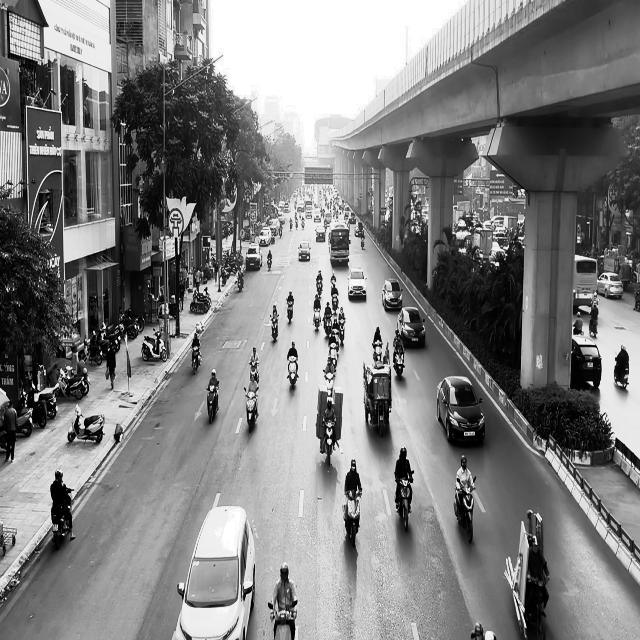car: (175, 505, 256, 639), (436, 375, 485, 445), (571, 334, 602, 389), (397, 306, 426, 348), (597, 272, 623, 300), (347, 267, 367, 300), (382, 278, 402, 309), (298, 240, 310, 261)
motorbike: (453, 474, 476, 542), (51, 487, 74, 549), (394, 470, 414, 531), (268, 600, 298, 640), (343, 489, 362, 546), (141, 328, 167, 362), (243, 386, 259, 432), (321, 420, 335, 466), (613, 352, 629, 388), (205, 383, 219, 424), (392, 339, 404, 376), (286, 355, 298, 389), (323, 366, 335, 398), (191, 345, 201, 374), (269, 314, 279, 342), (249, 360, 259, 382), (313, 308, 321, 330), (286, 298, 293, 322), (237, 270, 243, 292)
